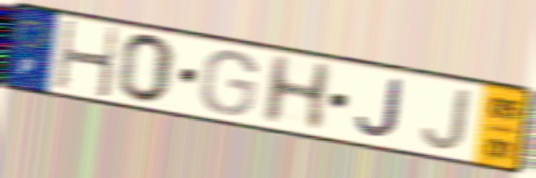0: (113, 32, 184, 106)
G: (197, 48, 261, 118)
H: (258, 52, 336, 132), (53, 17, 121, 101)
J: (419, 87, 474, 152), (353, 76, 406, 140)
